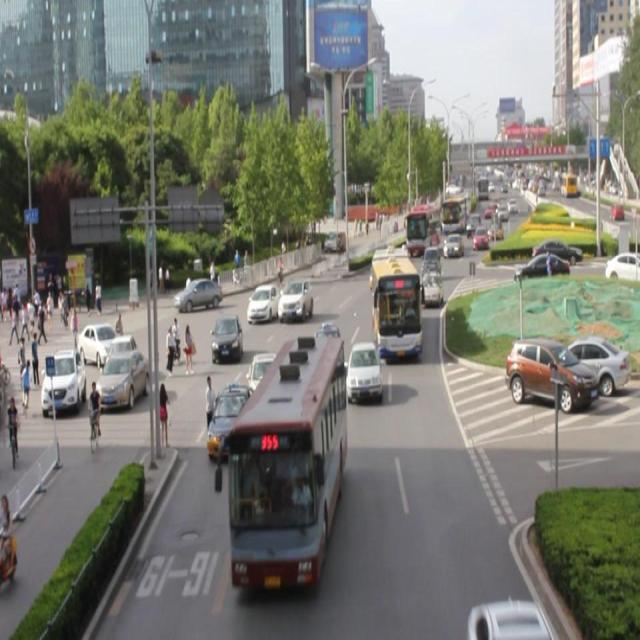car: (206, 384, 256, 468), (247, 357, 284, 416), (348, 347, 382, 406), (305, 328, 343, 374), (277, 280, 314, 326), (210, 317, 244, 367), (247, 285, 280, 327), (421, 274, 443, 309), (422, 250, 441, 282)
van: (230, 339, 344, 588), (371, 250, 422, 364)
